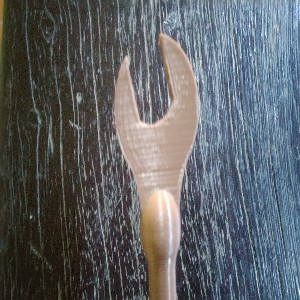spanner: (112, 32, 200, 300)
